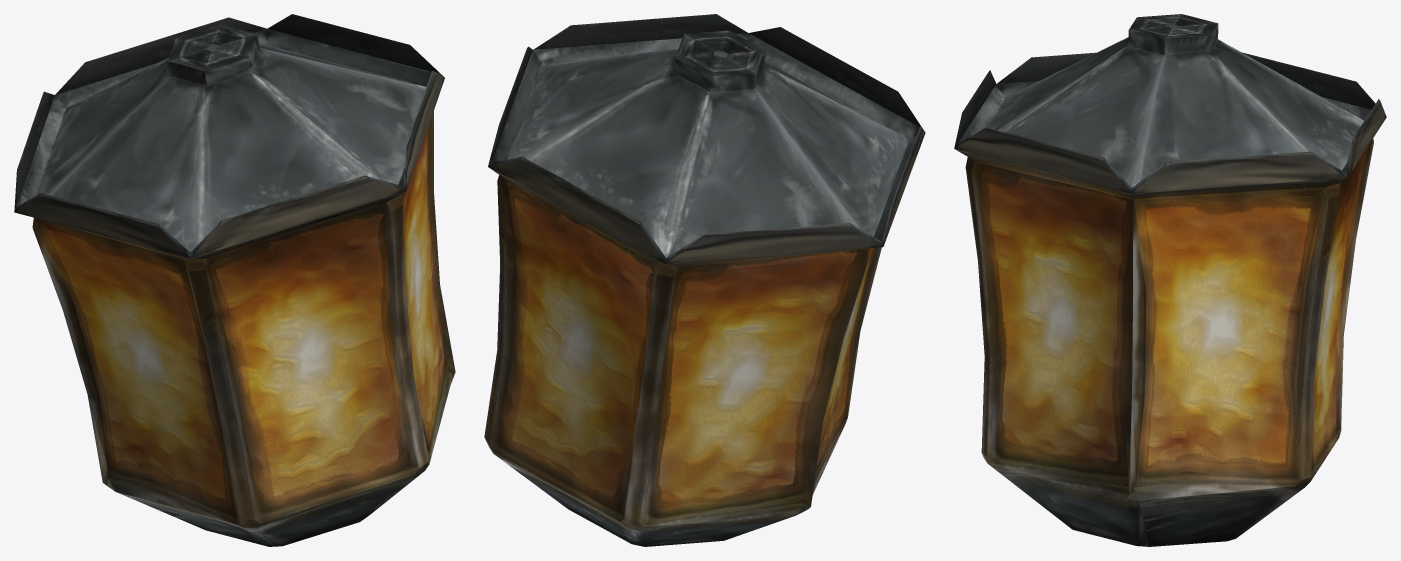
Rendered from Character_Lamp.fbx.
The picture shows the model from 3 angles, left to right: view 1: azimuth 30°, elevation 25°; view 2: azimuth 150°, elevation 25°; view 3: azimuth 270°, elevation 25°; orthographic projection.
Visible parts, largest first — view 1: lowlamp002; view 2: lowlamp002; view 3: lowlamp002.
Part boxes in pixels (x1,y1,x2,y2): lowlamp002: (14, 14, 455, 546); lowlamp002: (484, 14, 925, 546); lowlamp002: (954, 14, 1386, 546).
Size of the model in its own units: 18.04 by 20.89 by 17.03.
